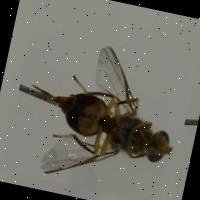Oriental-fruit-fly: (1, 29, 196, 200)
